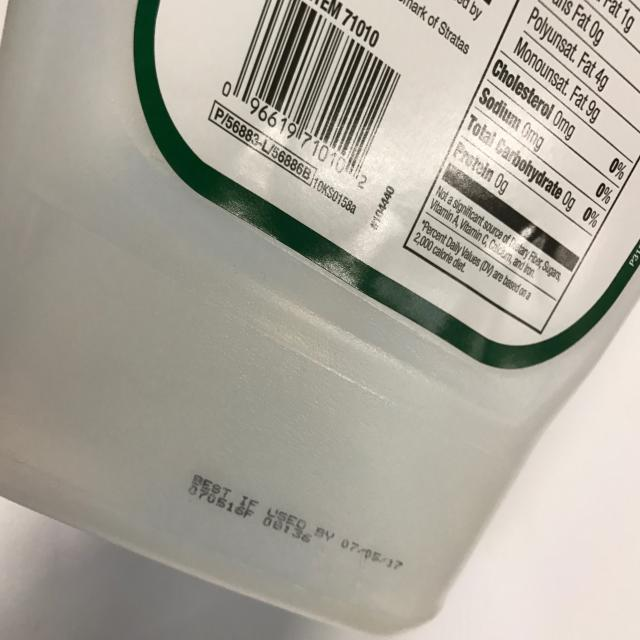plastic: (0, 0, 640, 637)
